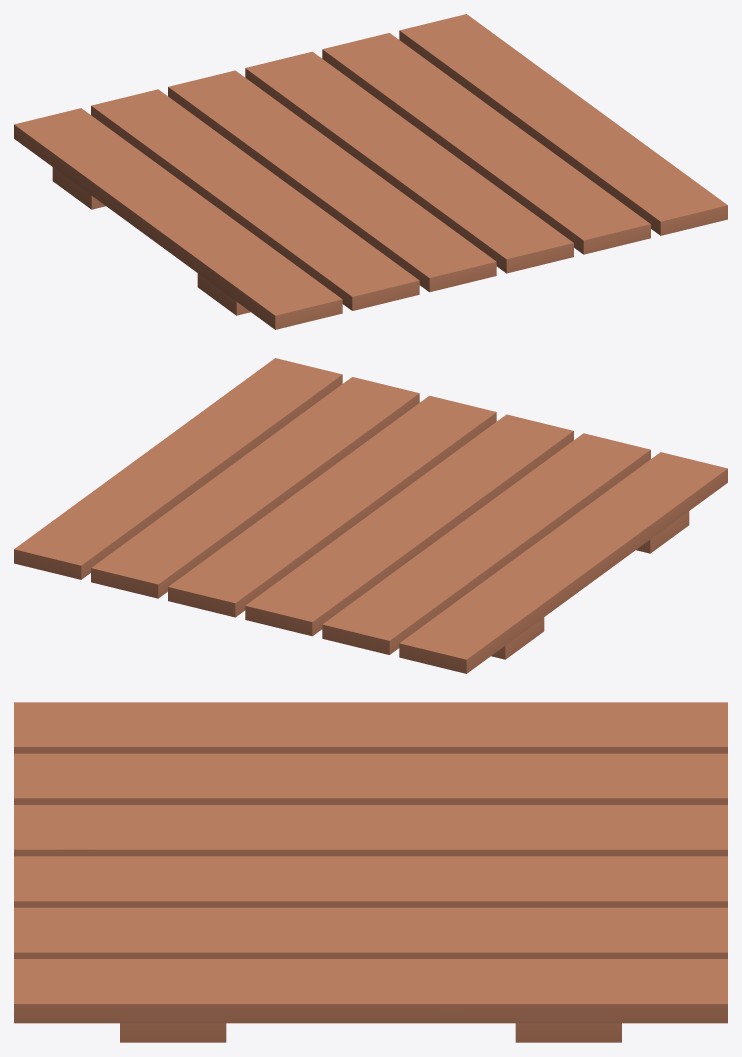
Rendered from prop-kn-planks.glb.
The picture shows the model from 3 angles, top to bottom: view 1: azimuth 30°, elevation 25°; view 2: azimuth 150°, elevation 25°; view 3: azimuth 270°, elevation 25°; orthographic projection. The views are drawn at different scales.
Visible parts, largest first — view 1: planks; view 2: planks; view 3: planks.
Part boxes in pixels (x1,y1,x2,y2): planks: (14, 14, 727, 329); planks: (14, 358, 727, 673); planks: (14, 702, 727, 1042).
Size of the model in its own units: 3 by 0.18 by 3.
1 material, 1 textured.
